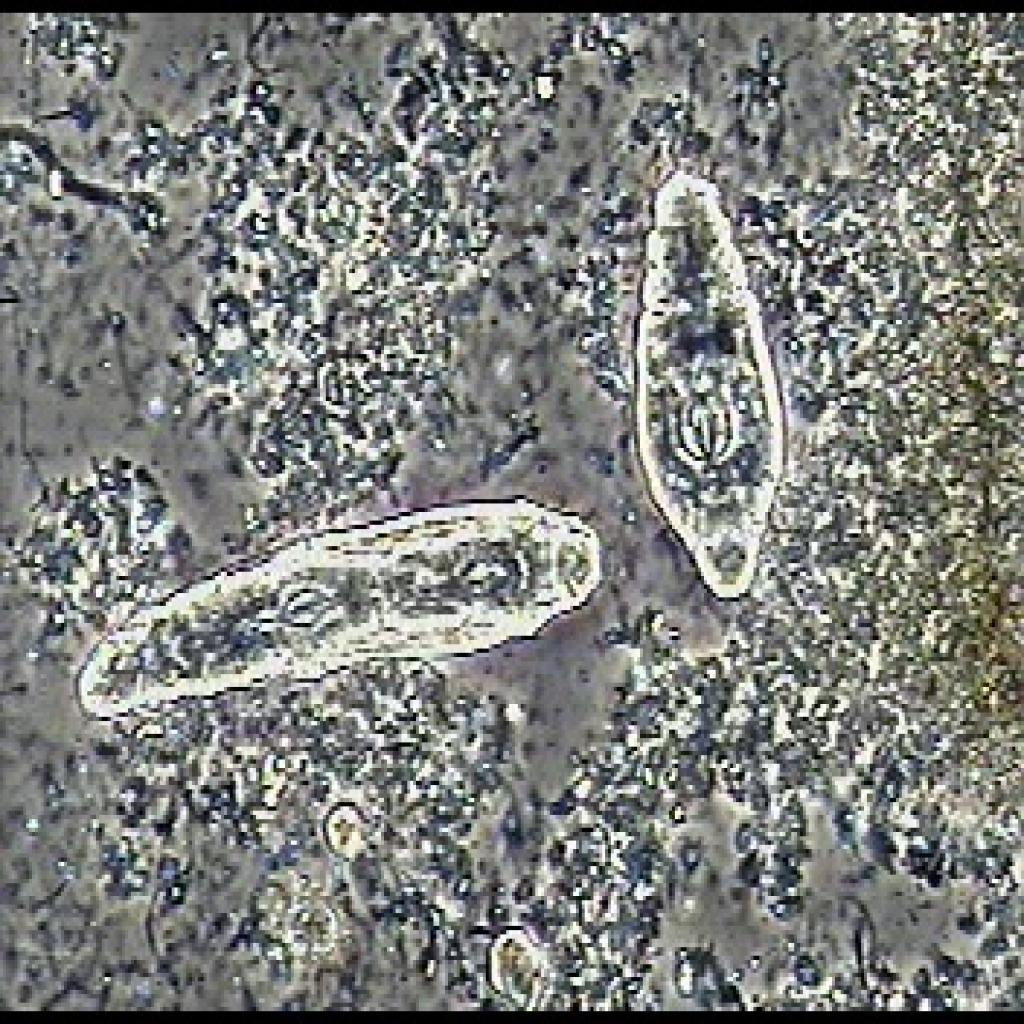Rotatoria: (34, 484, 604, 736), (616, 166, 802, 636)
